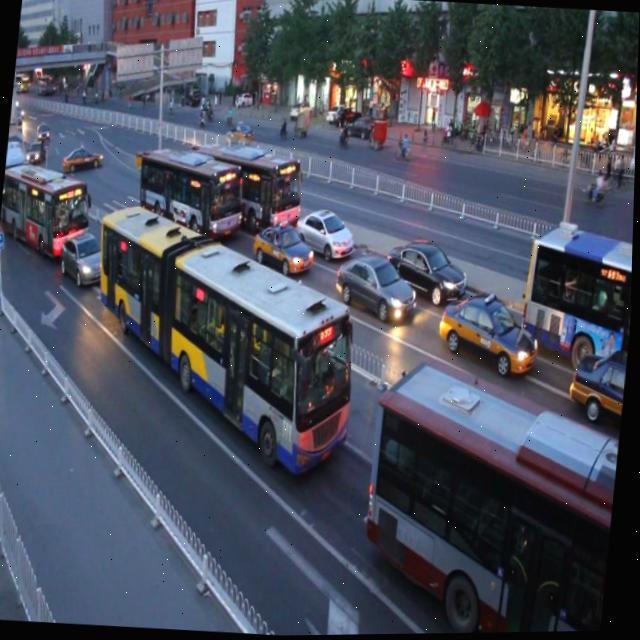car: (434, 293, 543, 391), (330, 251, 417, 332), (385, 239, 470, 313), (566, 343, 630, 425), (248, 217, 316, 283), (291, 204, 356, 269), (58, 230, 112, 287)
van: (77, 195, 370, 484), (356, 360, 627, 636), (517, 222, 635, 367), (132, 139, 248, 252), (189, 135, 307, 240), (0, 153, 94, 252)
